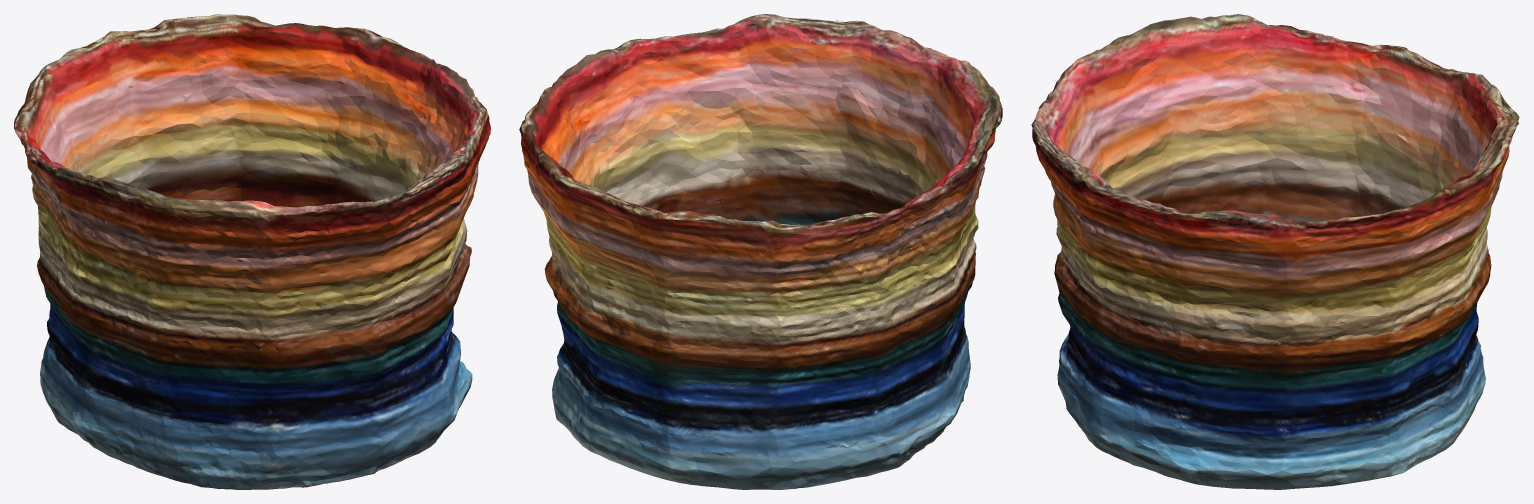
File: metascan_20230112-1803_Global_warming_cup.glb
3 views of the same model, side by side, from view 1: azimuth 30°, elevation 25°; view 2: azimuth 150°, elevation 25°; view 3: azimuth 270°, elevation 25° (orthographic).
Bounding box in the file's own units: 0.1098 × 0.0769 × 0.1141.
Materials: 1 (1 with a texture image).
